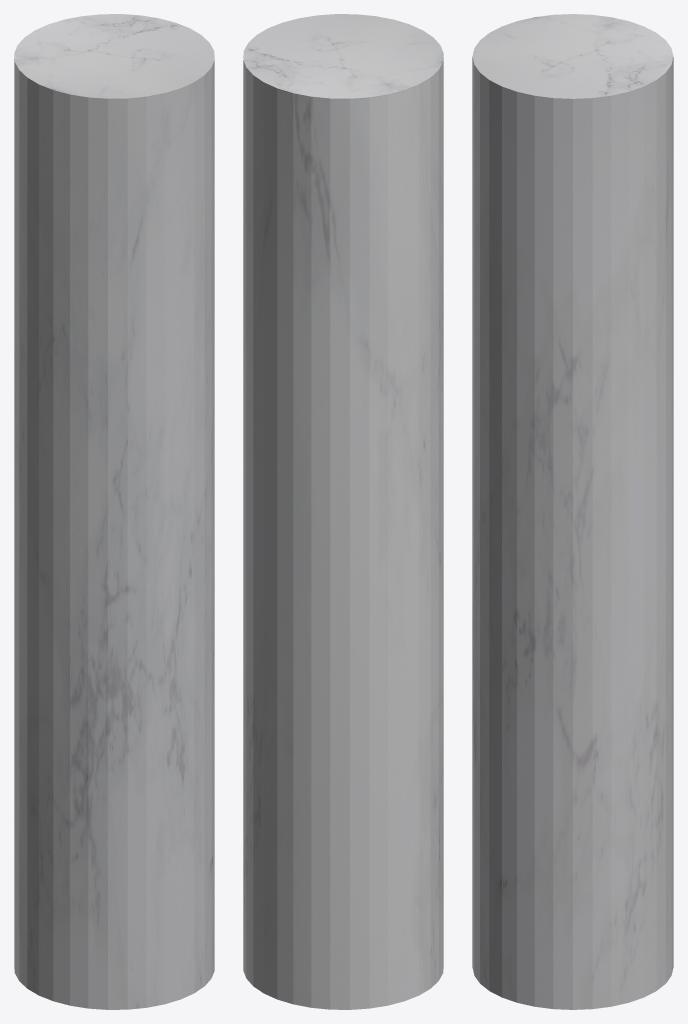
Rendered from pillar.obj.
3 renders of one model, left to right at view 1: azimuth 30°, elevation 25°; view 2: azimuth 150°, elevation 25°; view 3: azimuth 270°, elevation 25°, orthographic.
Visible parts, largest first — view 1: Cylinder; view 2: Cylinder; view 3: Cylinder.
Part boxes in pixels (bbox=[...]): Cylinder: bbox=[14, 14, 214, 1009]; Cylinder: bbox=[243, 14, 443, 1009]; Cylinder: bbox=[472, 14, 673, 1009].
Bounding box in the file's own units: 1 × 5 × 1.
